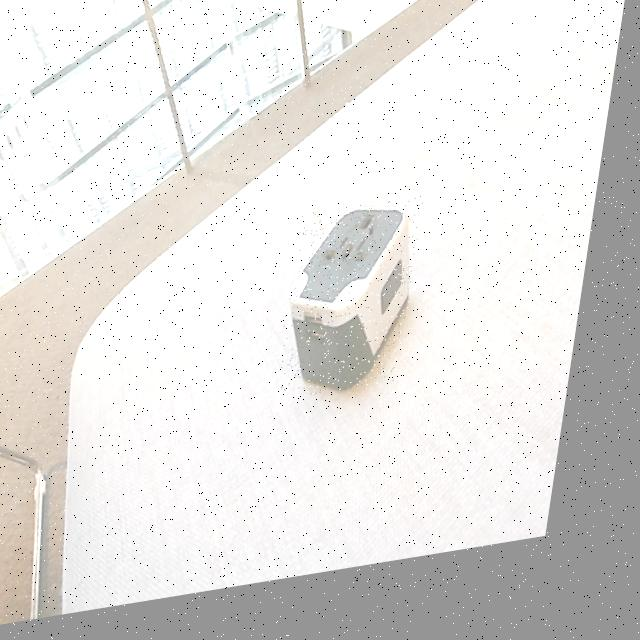adapter: (287, 210, 432, 413)
